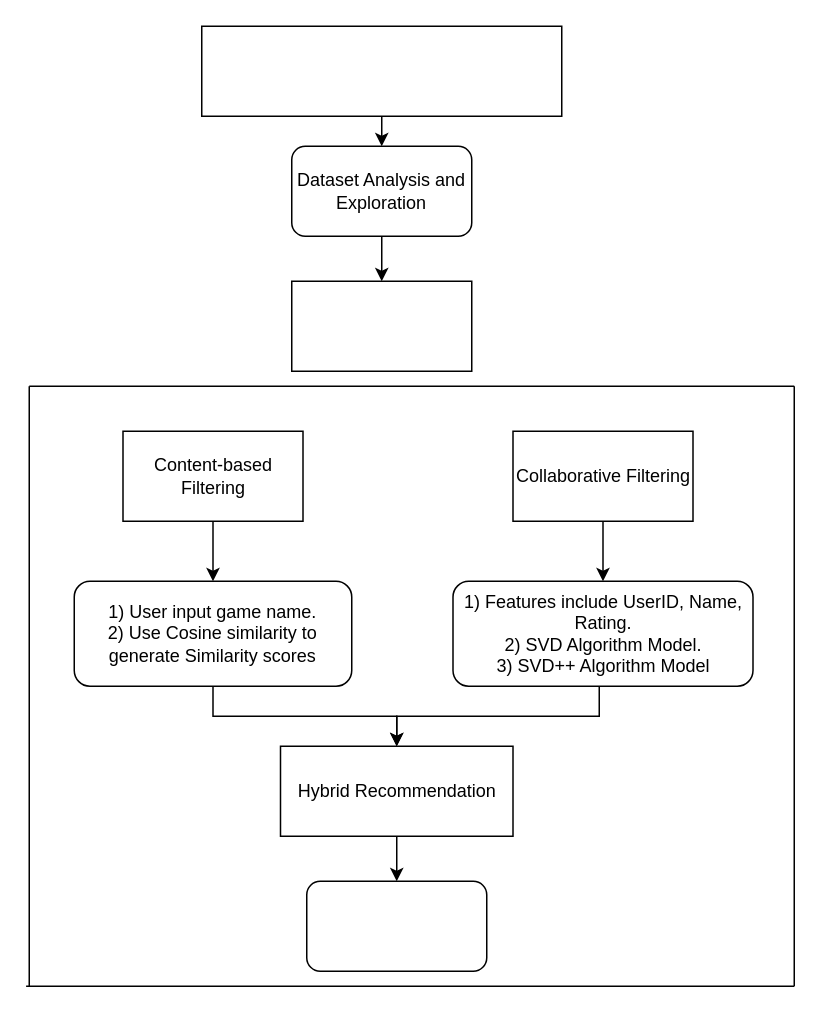
This 824x1014 diagram has some shape labels left out. The centre of each missing label's shape, as x and y in pixels:
Final Recommendation of Games: (x=396, y=925)
Recommendation System: (x=381, y=325)
Videogame Sales and Ratings Dataset: (x=381, y=70)
